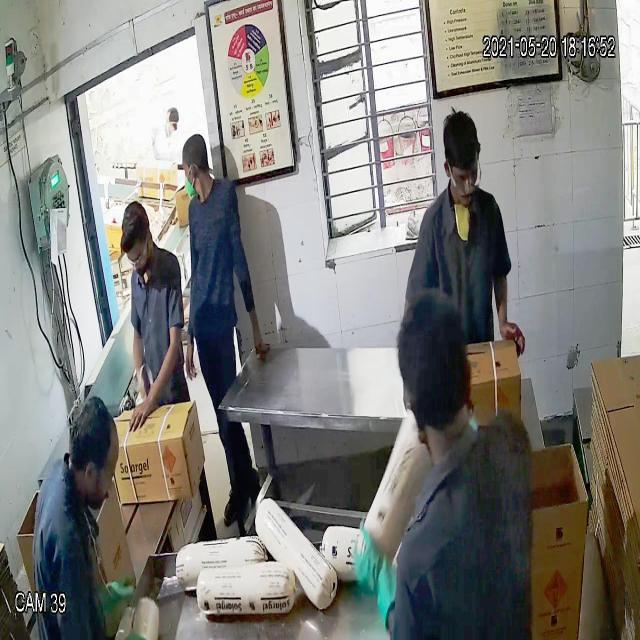glasses: (439, 146, 488, 196)
